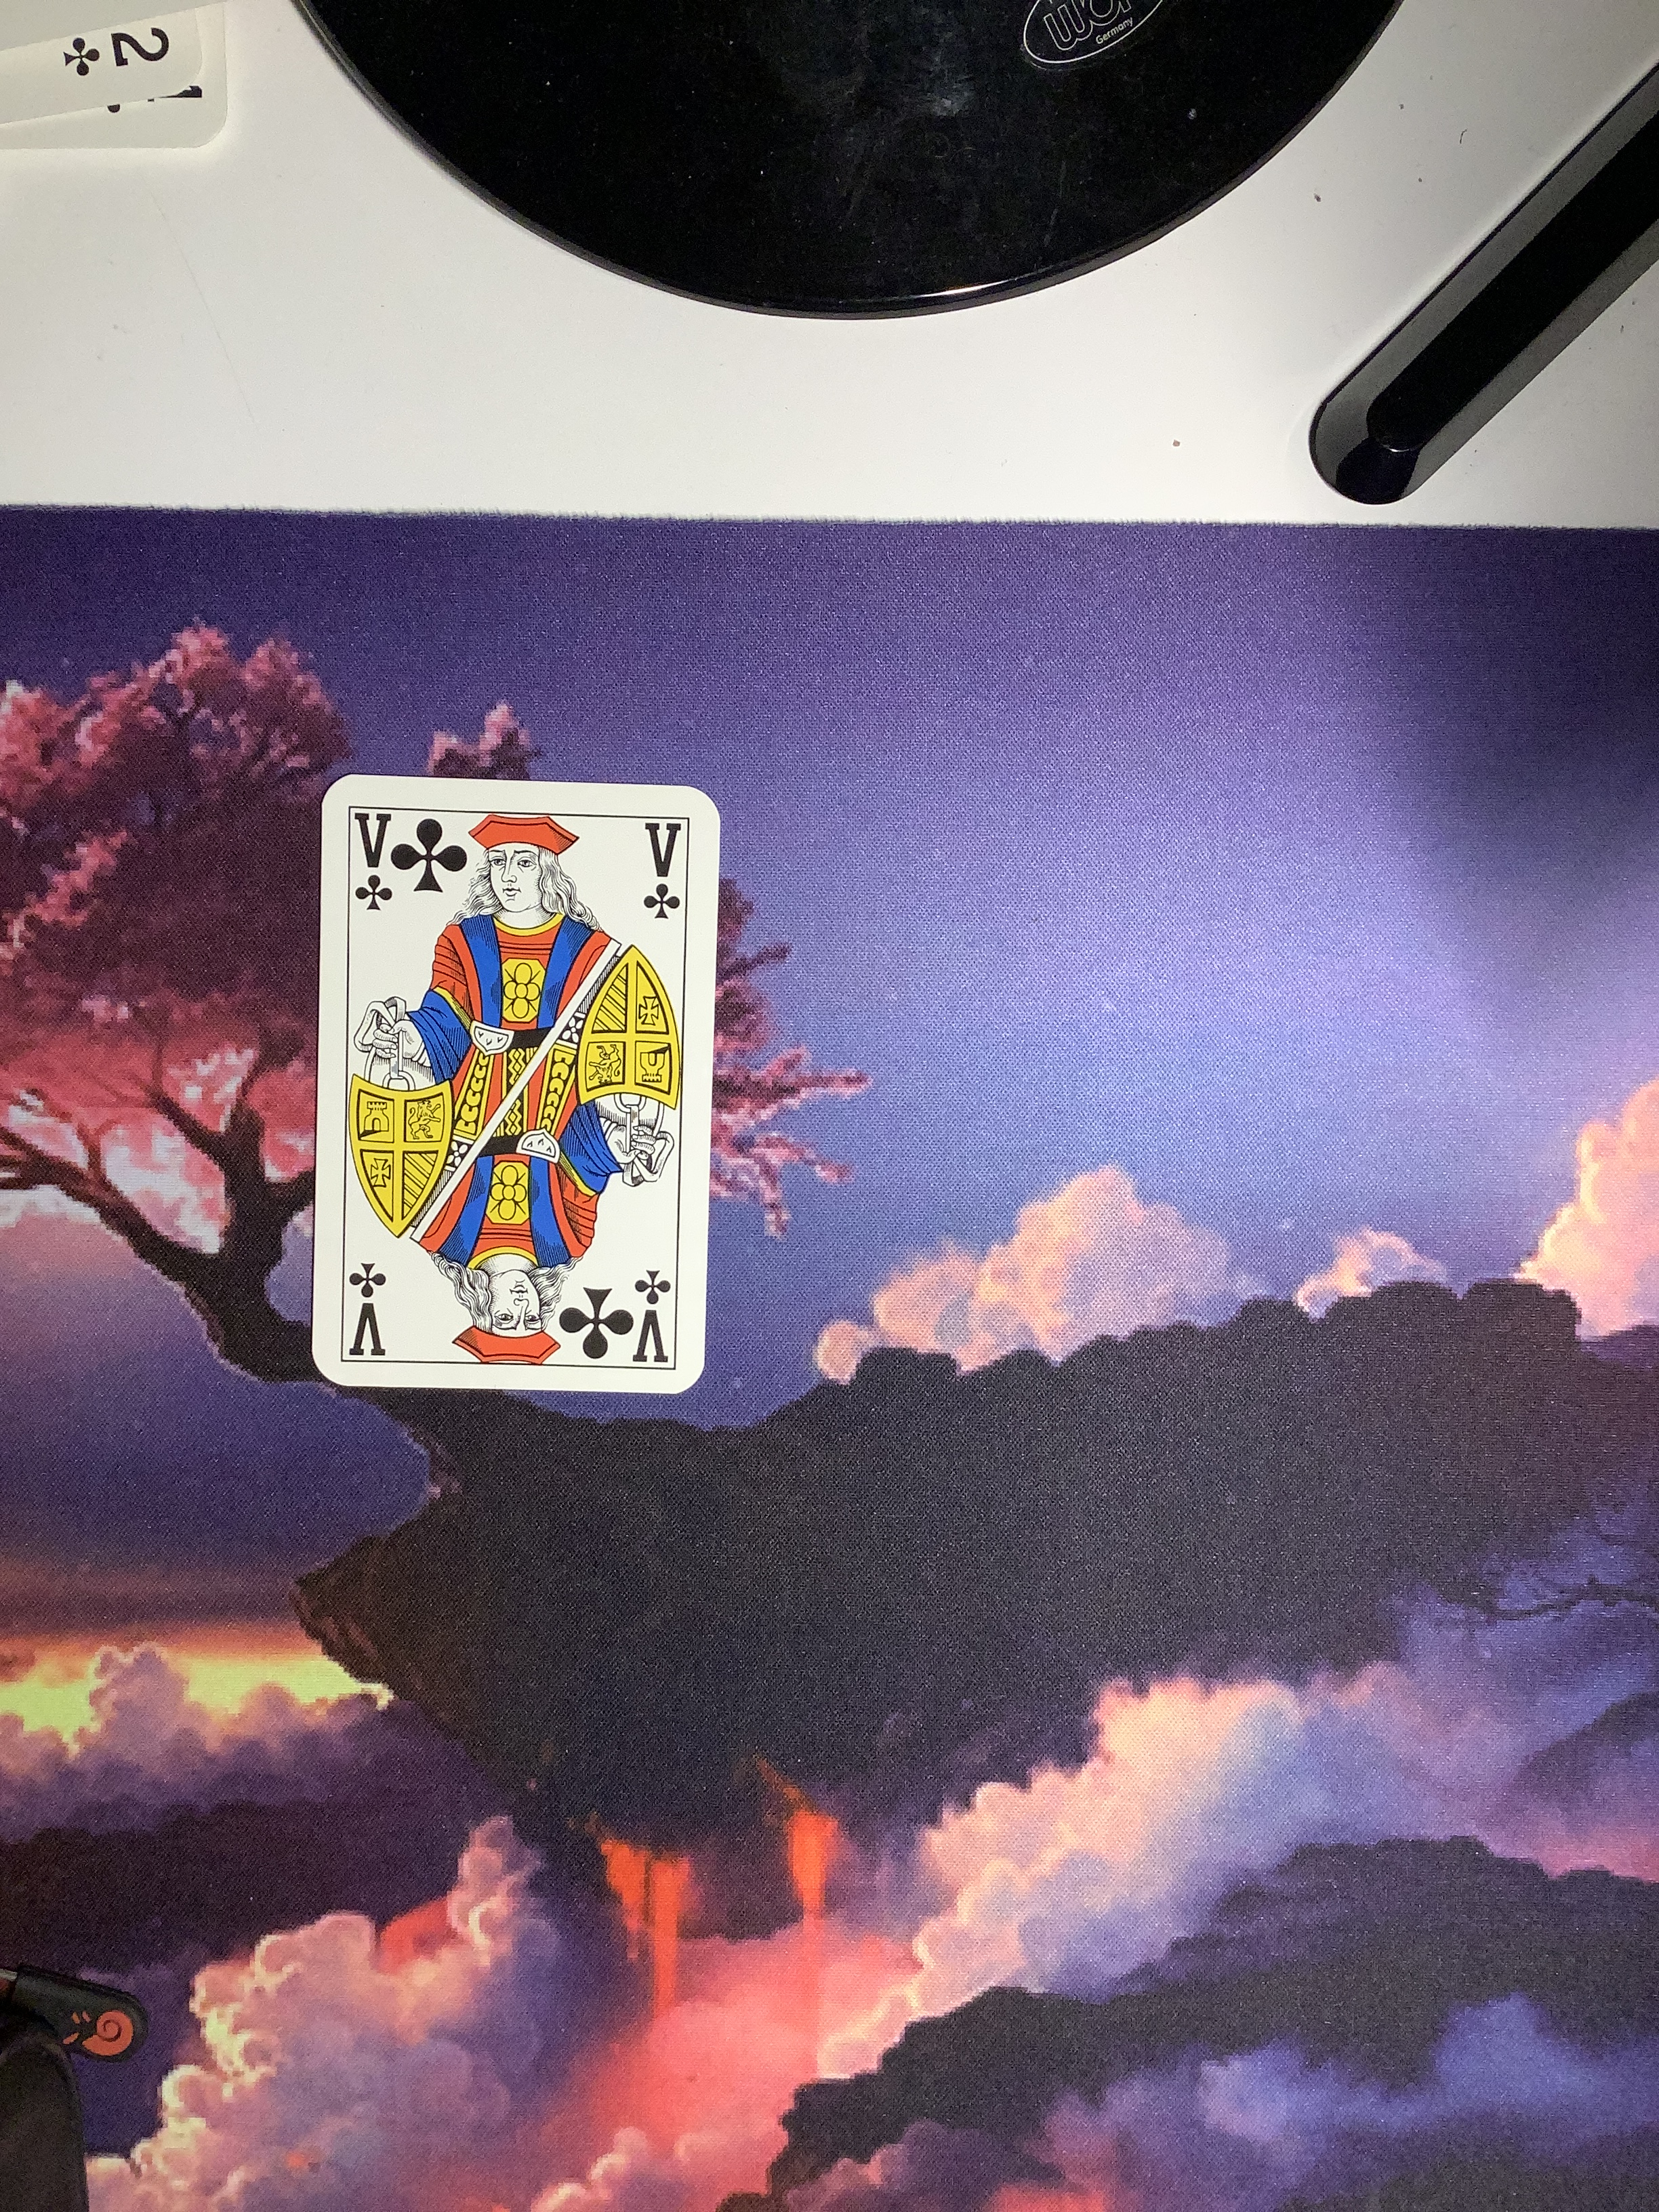♣ J: (312, 763, 739, 1402)
